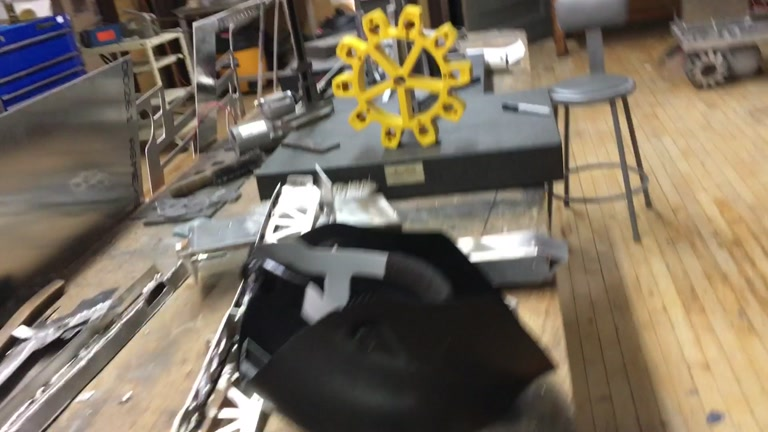gear: (331, 5, 472, 150)
